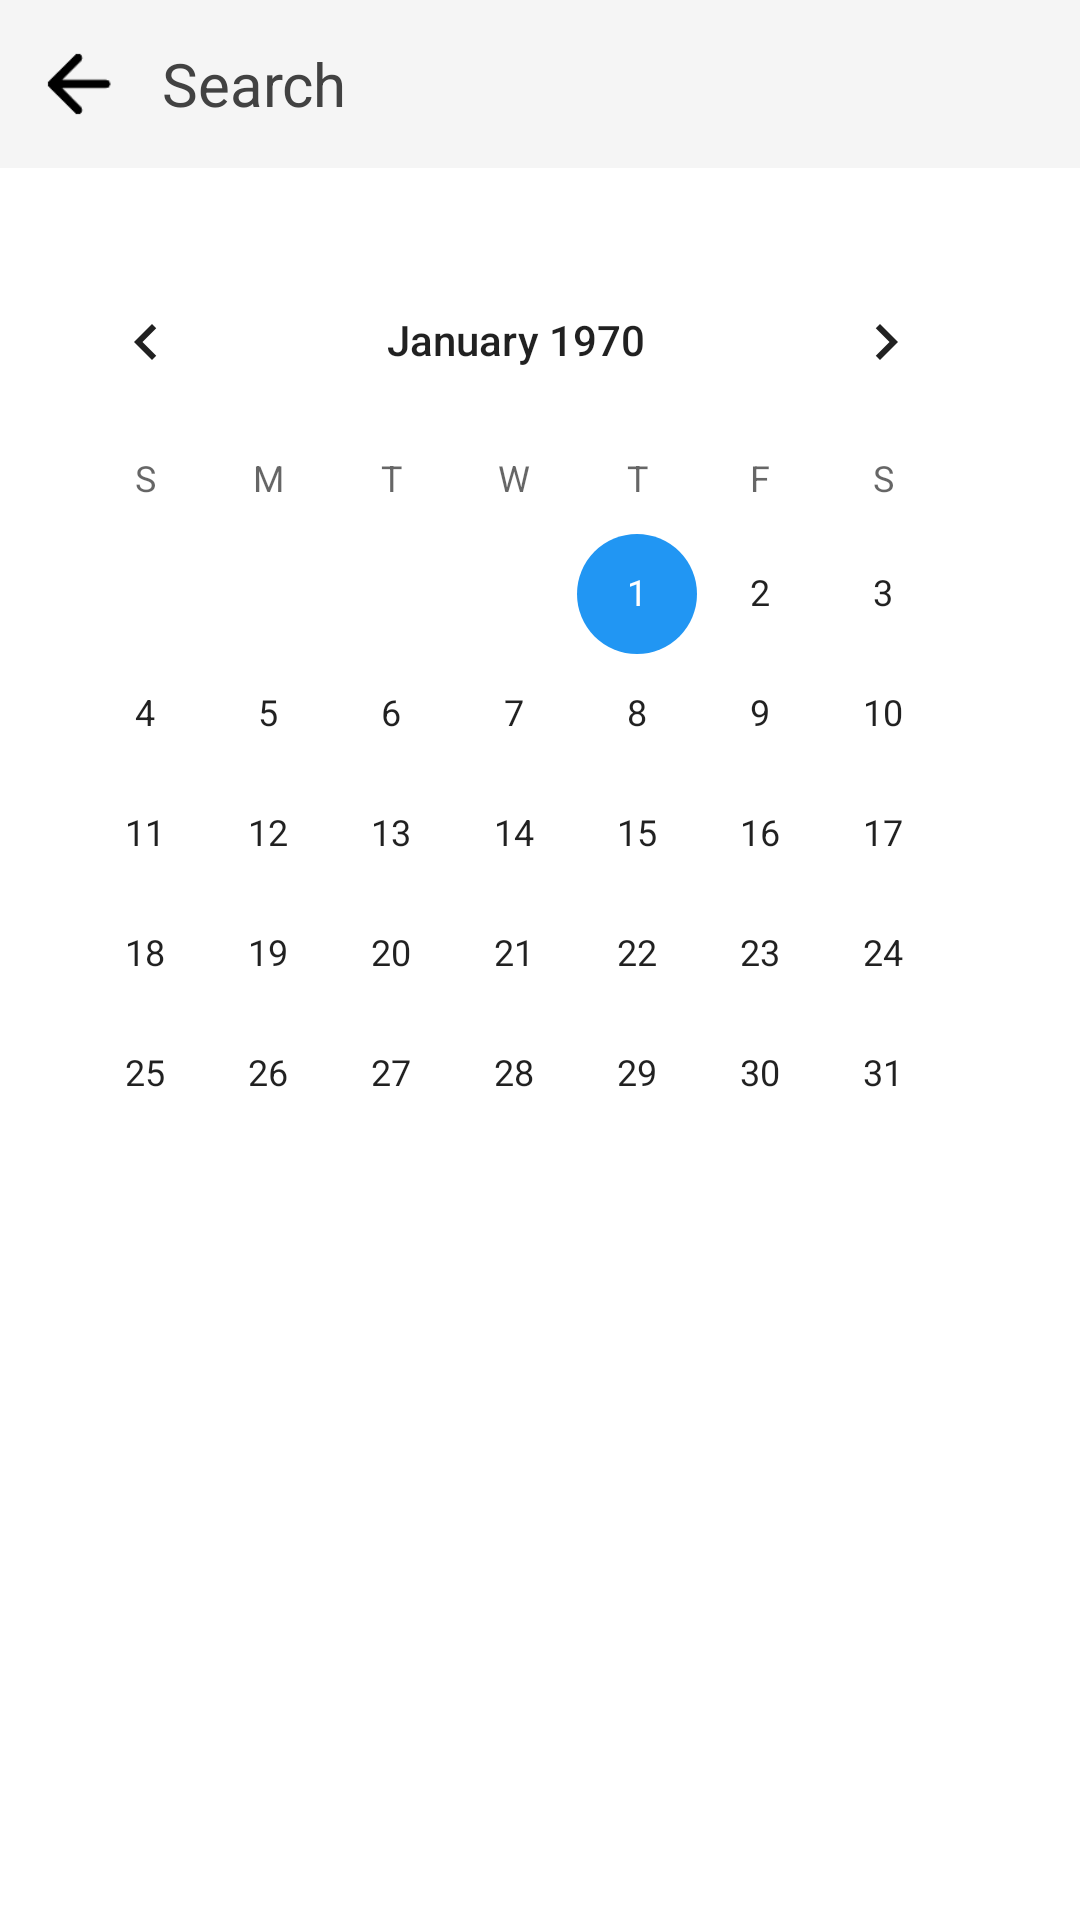

Icons on this 1080w x 1920h Android screen, each with its box as (x1, y1, x2, y2):
arrow back: (47, 54, 111, 115)
